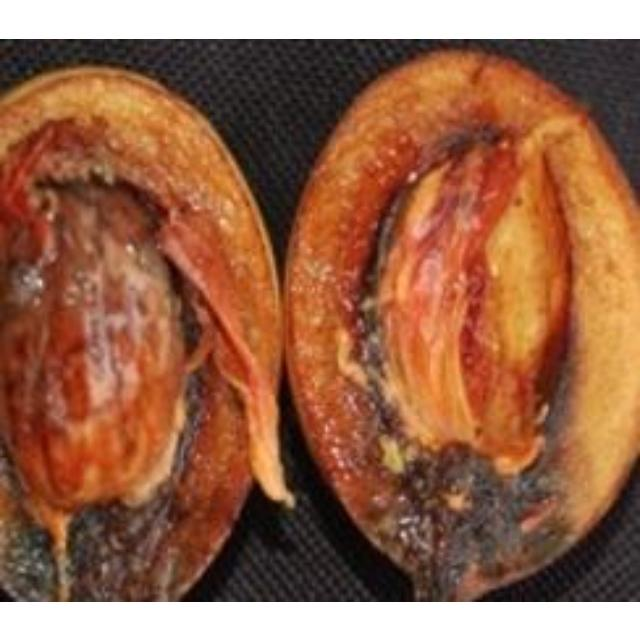damaged: (283, 48, 637, 599), (0, 64, 294, 599)
